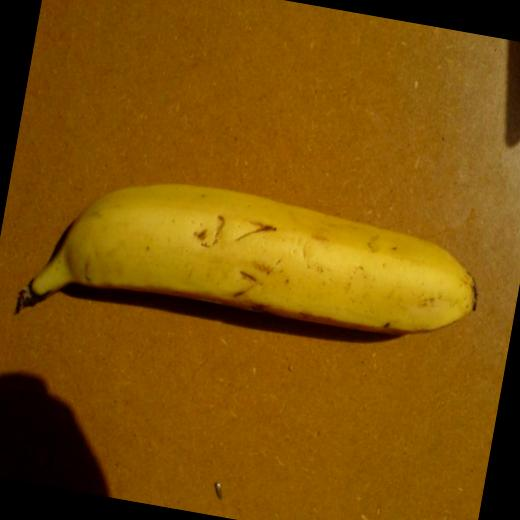Banana: (17, 157, 493, 388)
